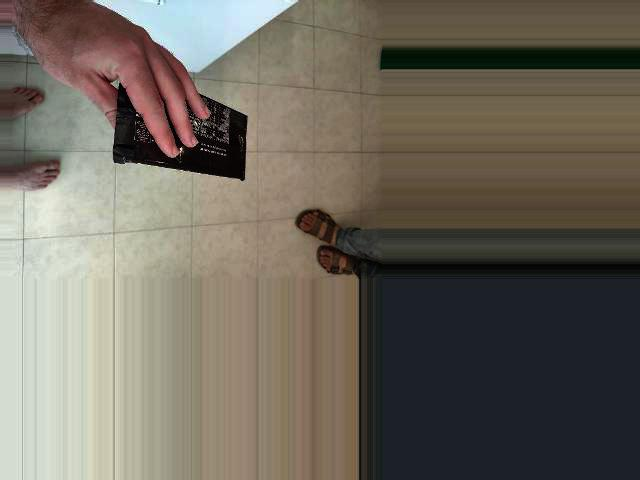chocolate: (167, 131, 285, 296)
